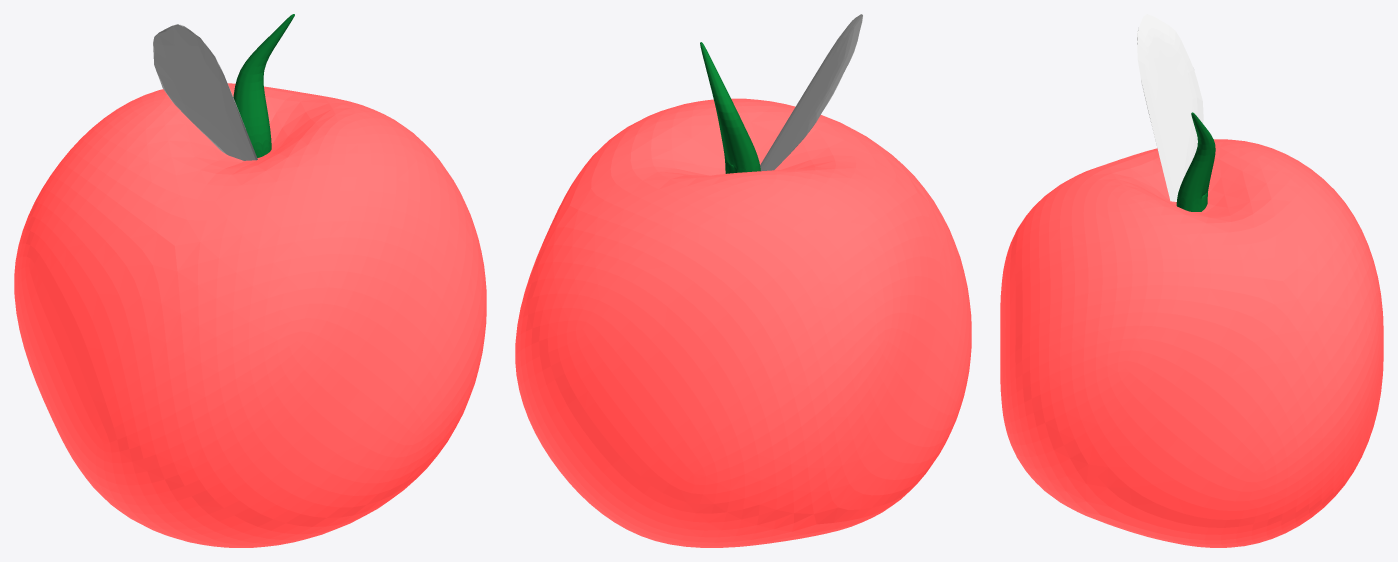
The model's file is Apple.dae.
3 views of the same model, side by side, from view 1: azimuth 30°, elevation 25°; view 2: azimuth 150°, elevation 25°; view 3: azimuth 270°, elevation 25° (orthographic). The views are drawn at different scales.
Visible parts, largest first — view 1: Apple-S3D-17-FLIPPED, Leaf-S3D-15, Stem-S3D-14; view 2: Apple-S3D-17-FLIPPED, Leaf-S3D-15, Stem-S3D-14; view 3: Apple-S3D-17-FLIPPED, Leaf-S3D-15, Stem-S3D-14.
Boxes of the visible parts, left/top/right/bottom form: Apple-S3D-17-FLIPPED: left=14, top=83, right=486, bottom=547; Leaf-S3D-15: left=153, top=24, right=257, bottom=160; Stem-S3D-14: left=233, top=14, right=294, bottom=157; Apple-S3D-17-FLIPPED: left=515, top=98, right=971, bottom=547; Leaf-S3D-15: left=760, top=14, right=863, bottom=171; Stem-S3D-14: left=700, top=42, right=760, bottom=173; Apple-S3D-17-FLIPPED: left=1000, top=139, right=1383, bottom=547; Leaf-S3D-15: left=1137, top=14, right=1203, bottom=201; Stem-S3D-14: left=1176, top=112, right=1215, bottom=211.
Size of the model in its own units: 3.89 by 5.2 by 3.93.
